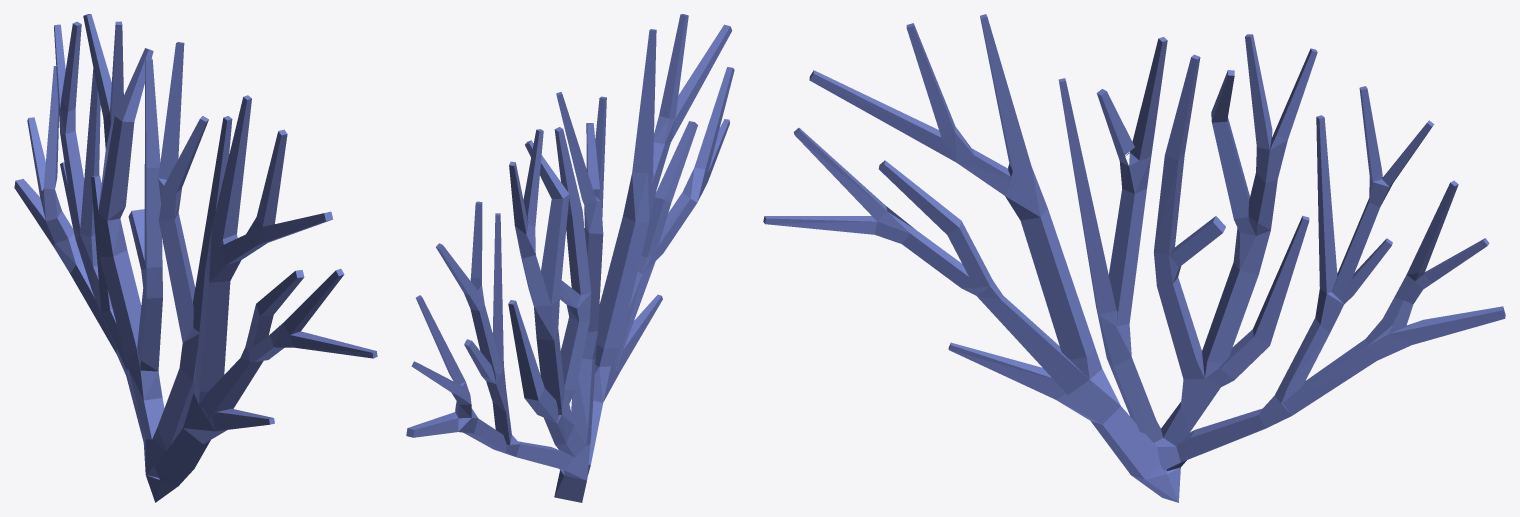
Rendered from Coral6.glb.
3 views of the same model, side by side, from view 1: azimuth 30°, elevation 25°; view 2: azimuth 150°, elevation 25°; view 3: azimuth 270°, elevation 25° (orthographic). The views are drawn at different scales.
Parts seen in each view (by area): view 1: Coral.006; view 2: Coral.006; view 3: Coral.006.
Part boxes in pixels (x1=…): Coral.006: x1=14, y1=14, x2=377, y2=502; Coral.006: x1=406, y1=14, x2=734, y2=502; Coral.006: x1=763, y1=14, x2=1505, y2=502.
Bounding box in the file's own units: 5.08 × 38.77 × 53.73.
